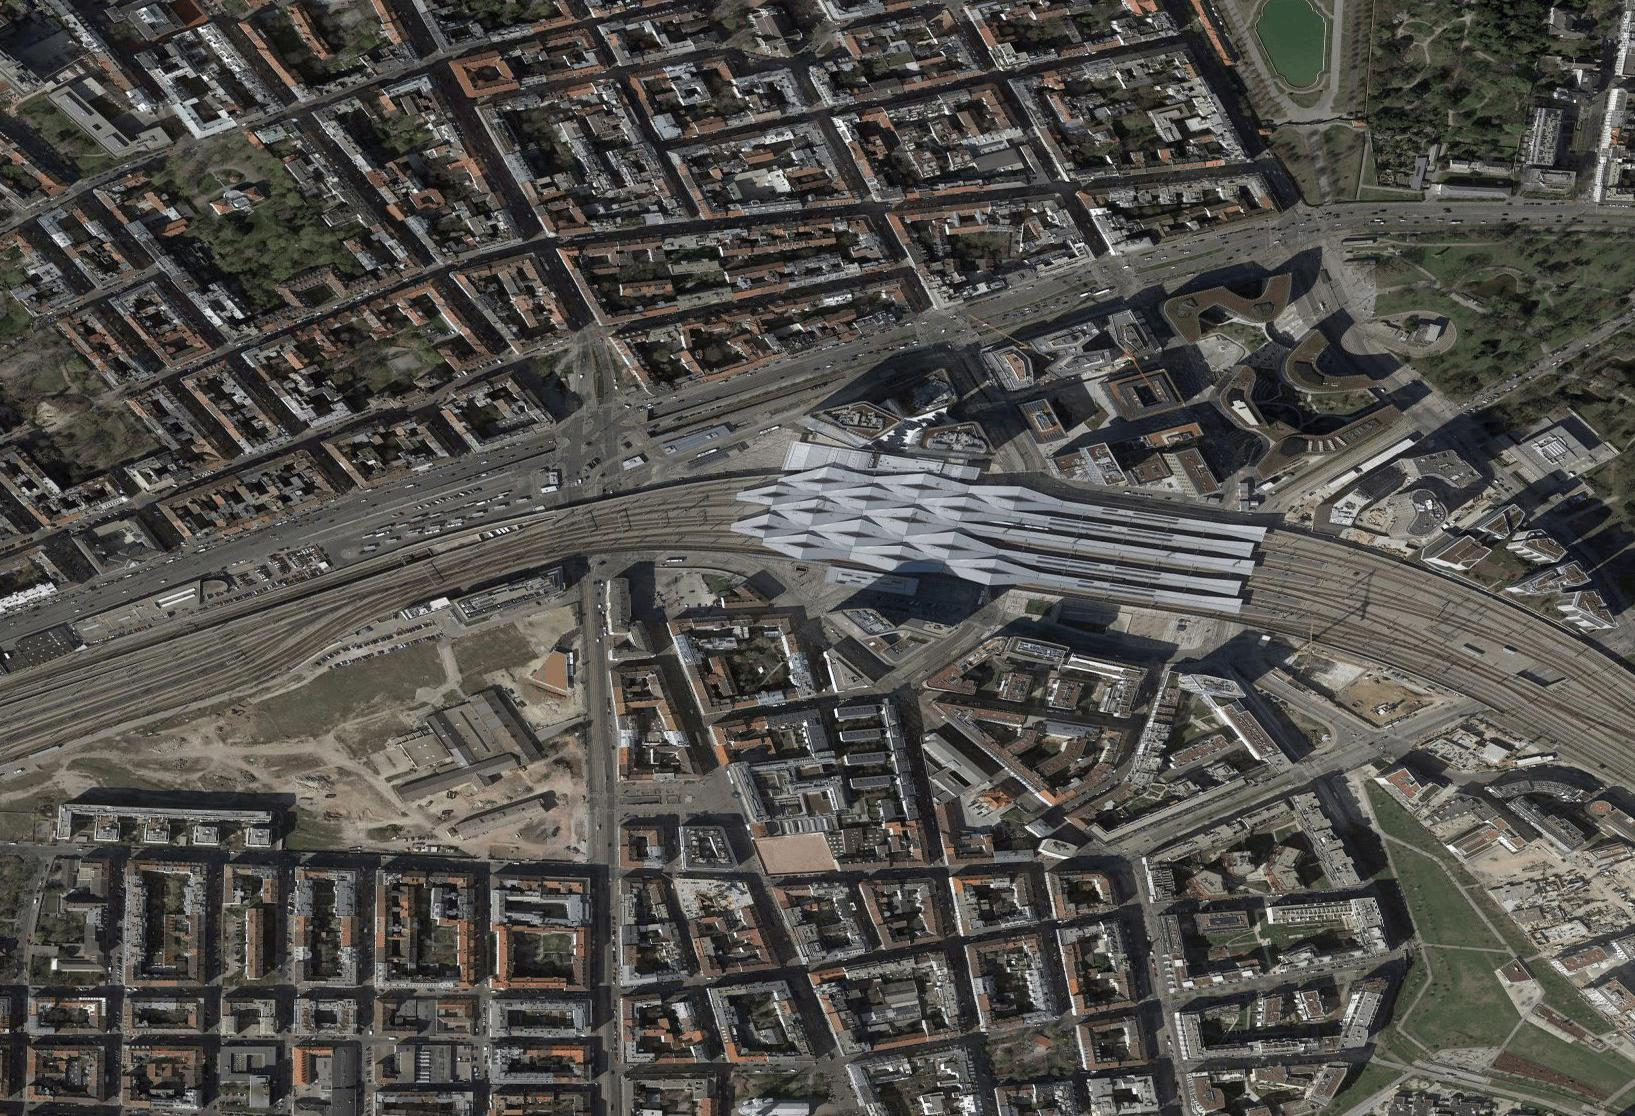train_station: (731, 423, 1268, 661)
